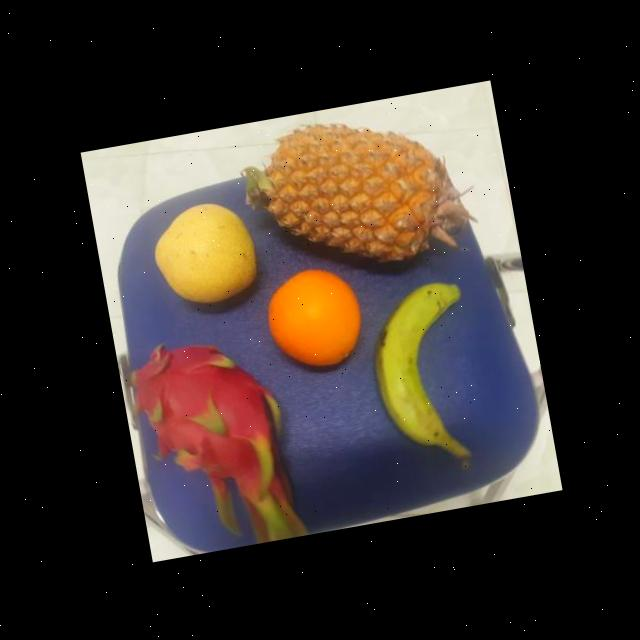banana: (358, 278, 482, 455)
orange: (256, 262, 369, 376)
pear: (143, 194, 262, 314)
pineapple: (240, 102, 459, 287)
pitaya: (119, 329, 306, 541)
